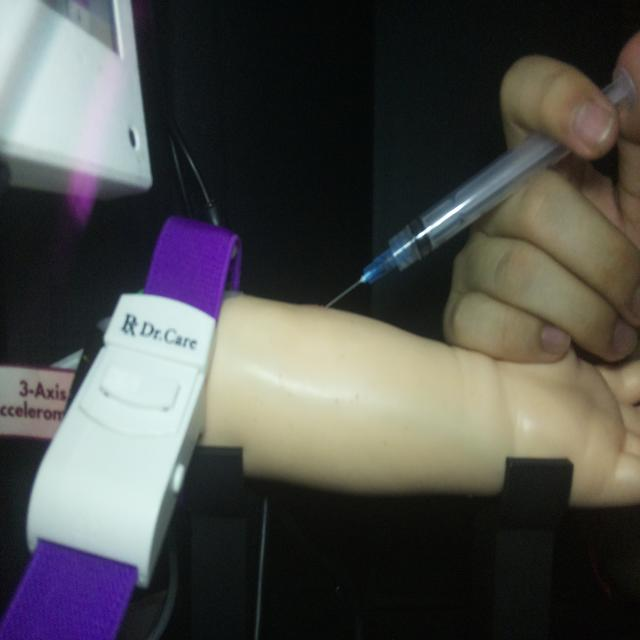29 degrees: (325, 66, 635, 308)
